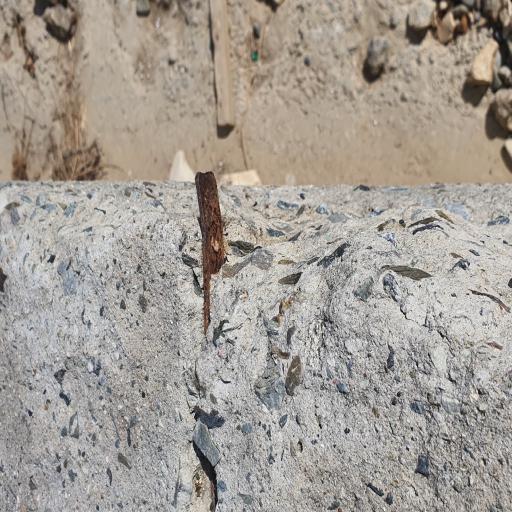exposed_rebar: (195, 172, 226, 332)
